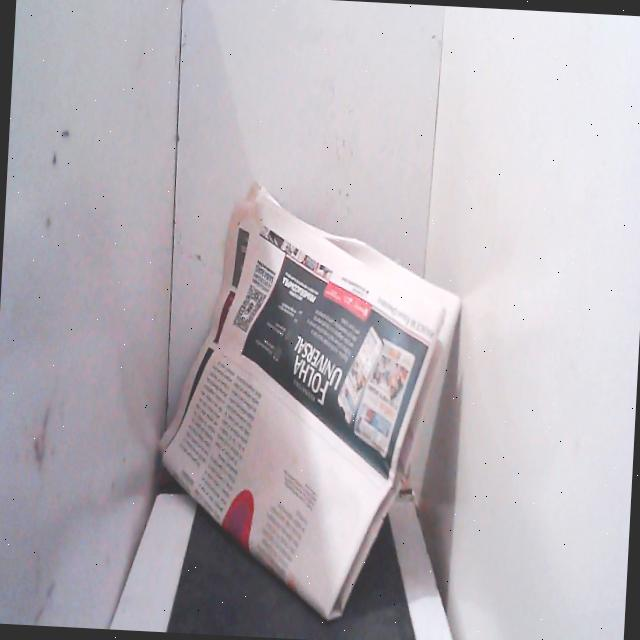papel: (144, 167, 471, 634)
